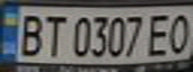0: (69, 12, 93, 59), (109, 12, 127, 59)
3: (90, 12, 109, 59)
7: (124, 11, 148, 58)
B: (12, 10, 48, 57)
E: (145, 10, 175, 57)
O: (163, 10, 193, 55)
T: (36, 11, 69, 58)
